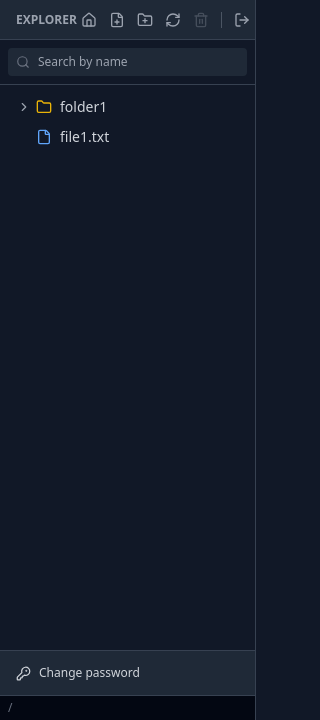
Test: Sidebar Component › should navigate to folder when folder is clicked
Click the text "folder1": (84, 106) [60,97,107,116]
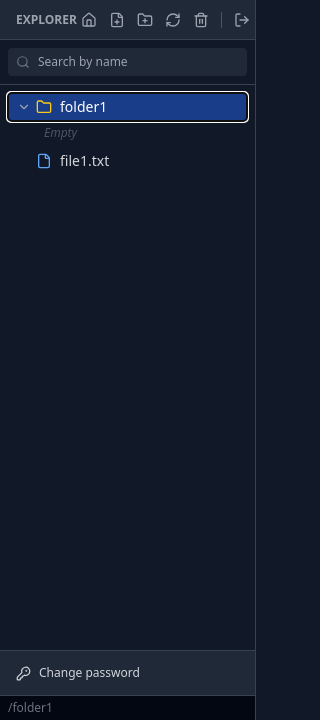
Check: the text "/folder1" is shown, box [0,695,255,719]
